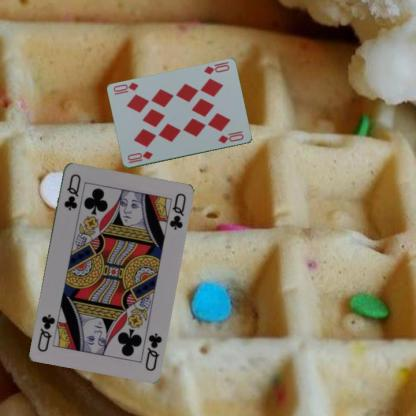10d: (124, 148, 154, 164), (201, 62, 231, 76)
Qc: (142, 330, 163, 372), (61, 171, 82, 212)
